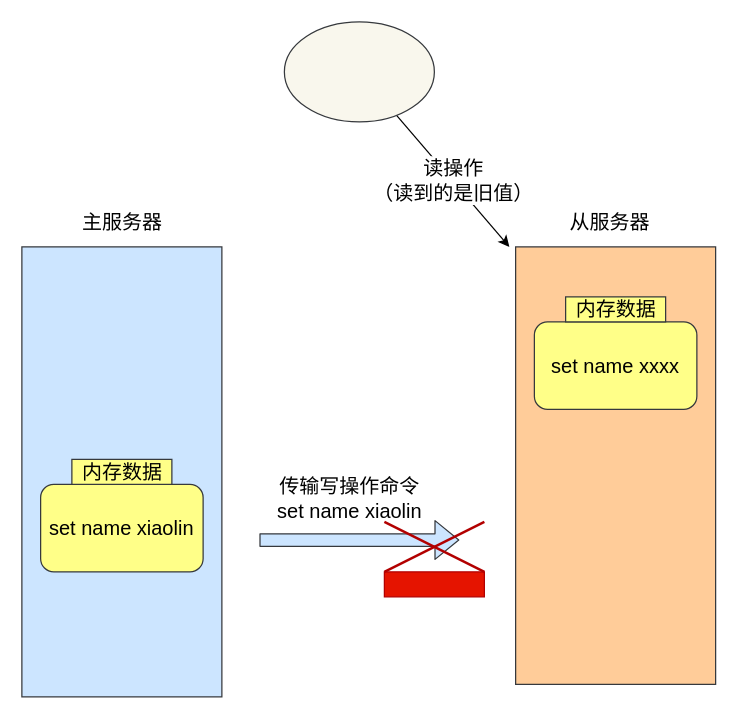
The diagram is 738 pixels wide and 719 high, and some of its shapes have lost their labels. Here are the shapes that lost their labels. From the top down, the centre of each, then its label:
point (358, 71): 客户端
point (433, 584): 网络断开
